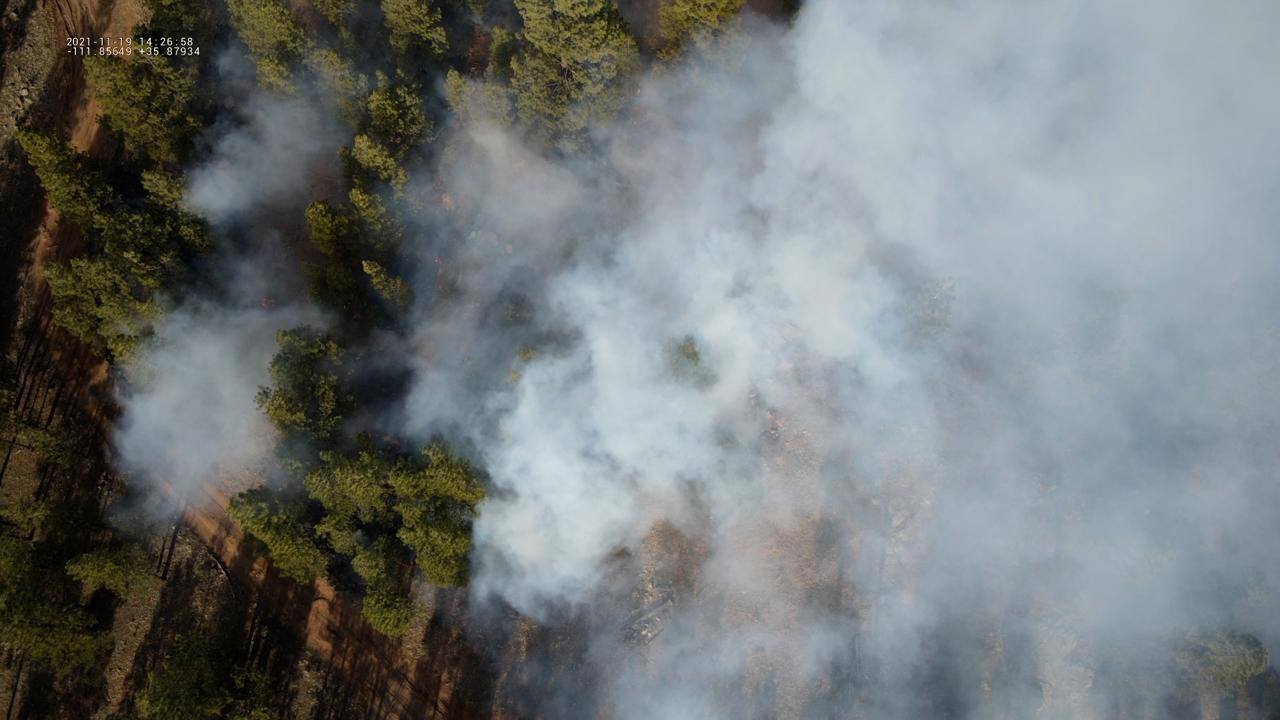fire: (259, 297, 277, 310)
smoke: (84, 0, 1280, 720)
